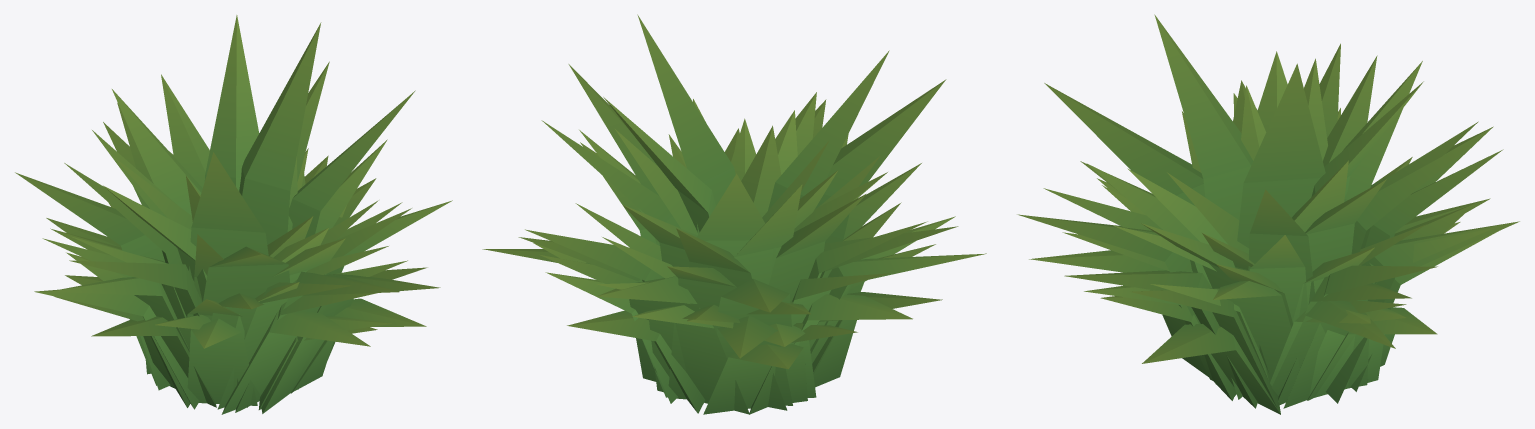
Rendered from lp-Bush_3.glb.
3 renders of one model, left to right at view 1: azimuth 30°, elevation 25°; view 2: azimuth 150°, elevation 25°; view 3: azimuth 270°, elevation 25°, orthographic. The views are drawn at different scales.
Parts seen in each view (by area): view 1: lp-Bush_3; view 2: lp-Bush_3; view 3: lp-Bush_3.
Part boxes in pixels (box(x1,y1,x2,y2)): lp-Bush_3: box(15, 15, 452, 414); lp-Bush_3: box(482, 14, 986, 414); lp-Bush_3: box(1017, 14, 1519, 414).
Size of the model in its own units: 2.52 by 1.94 by 2.51.
